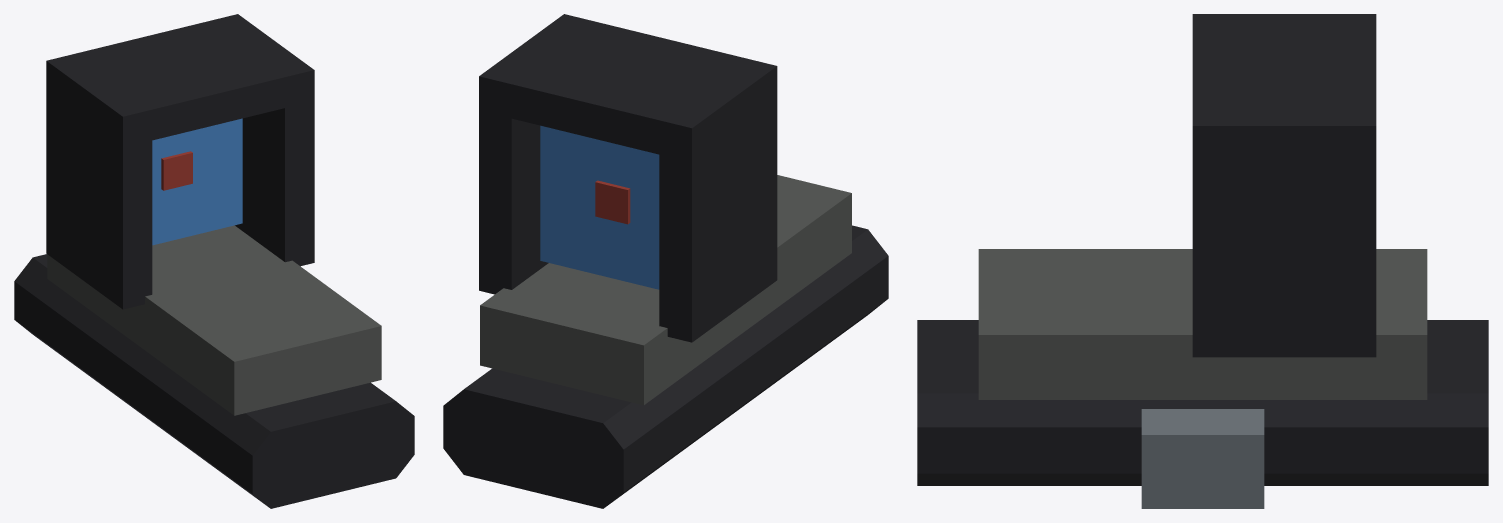
Rendered from red_dot.glb.
3 renders of one model, left to right at view 1: azimuth 30°, elevation 25°; view 2: azimuth 150°, elevation 25°; view 3: azimuth 270°, elevation 25°, orthographic. The views are drawn at different scales.
Visible parts, largest first — view 1: red_dot; view 2: red_dot; view 3: red_dot.
Part boxes in pixels (bbox=[...]): red_dot: bbox=[14, 14, 414, 508]; red_dot: bbox=[443, 14, 888, 508]; red_dot: bbox=[917, 14, 1488, 508].
Bounding box in the file's own units: 0.029 × 0.041 × 0.056.
Materials: 1 (1 with a texture image).
